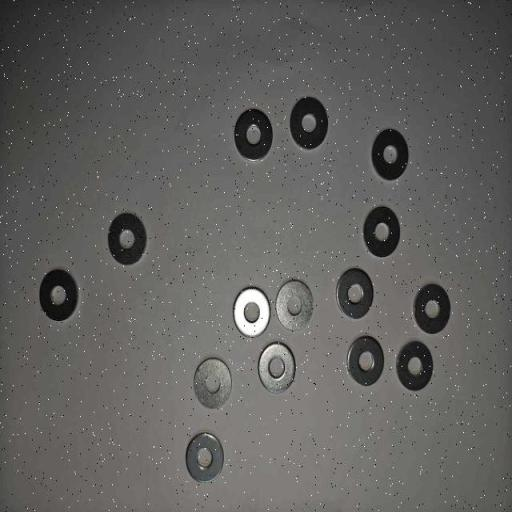washer: (288, 97, 330, 152), (232, 108, 274, 162), (107, 212, 147, 267), (370, 128, 410, 181), (275, 279, 314, 333), (193, 357, 232, 410), (39, 270, 79, 321), (185, 432, 225, 483), (335, 268, 374, 320), (346, 335, 385, 387), (395, 340, 434, 392), (412, 283, 451, 335), (233, 286, 271, 338), (362, 206, 400, 258), (258, 342, 295, 394)
